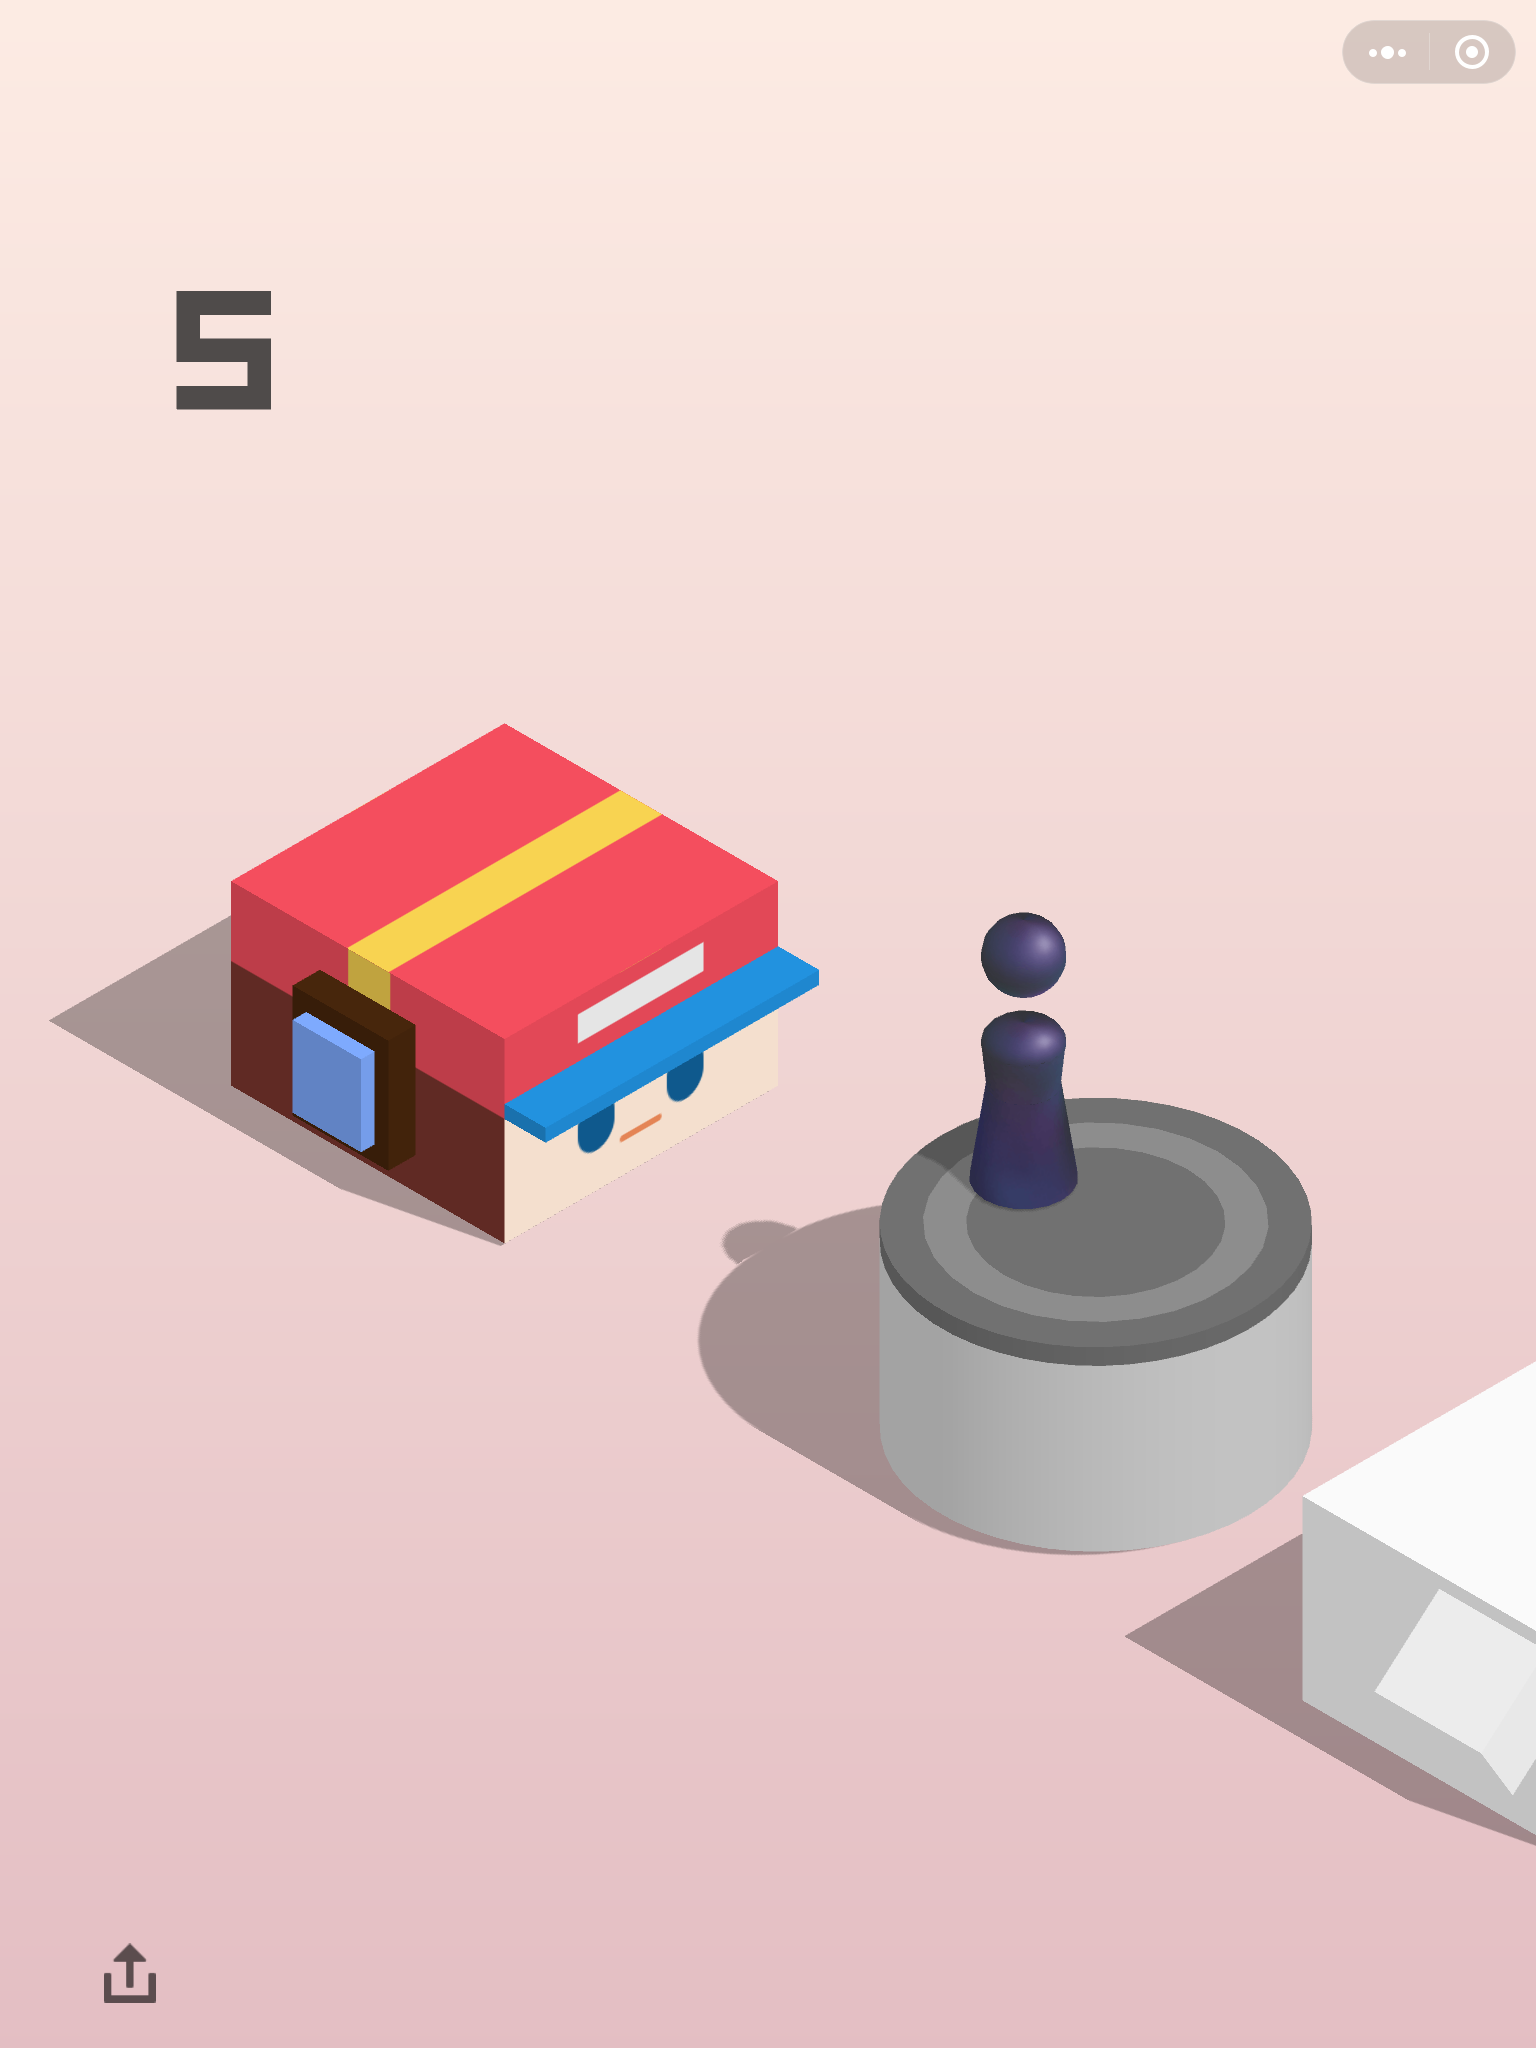c: (873, 1072, 1318, 1566)
f: (226, 714, 818, 1251), (1304, 1348, 1536, 1843)
r: (968, 903, 1081, 1214)
